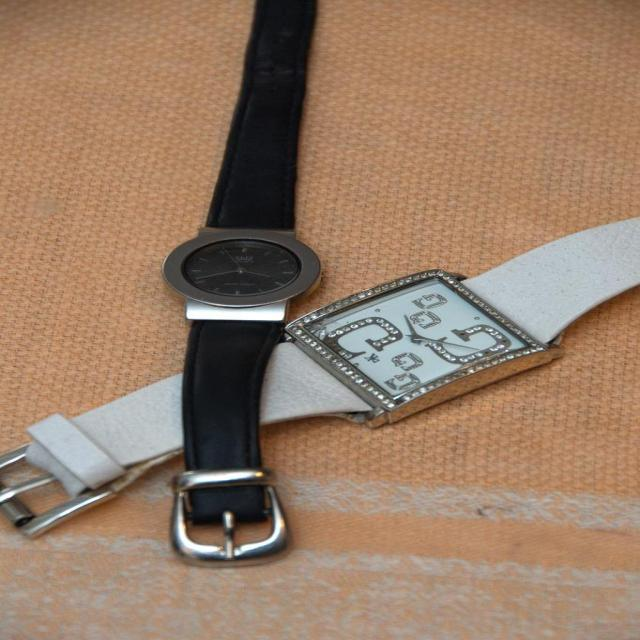Wrist watch: (1, 216, 639, 540), (162, 0, 322, 565)
